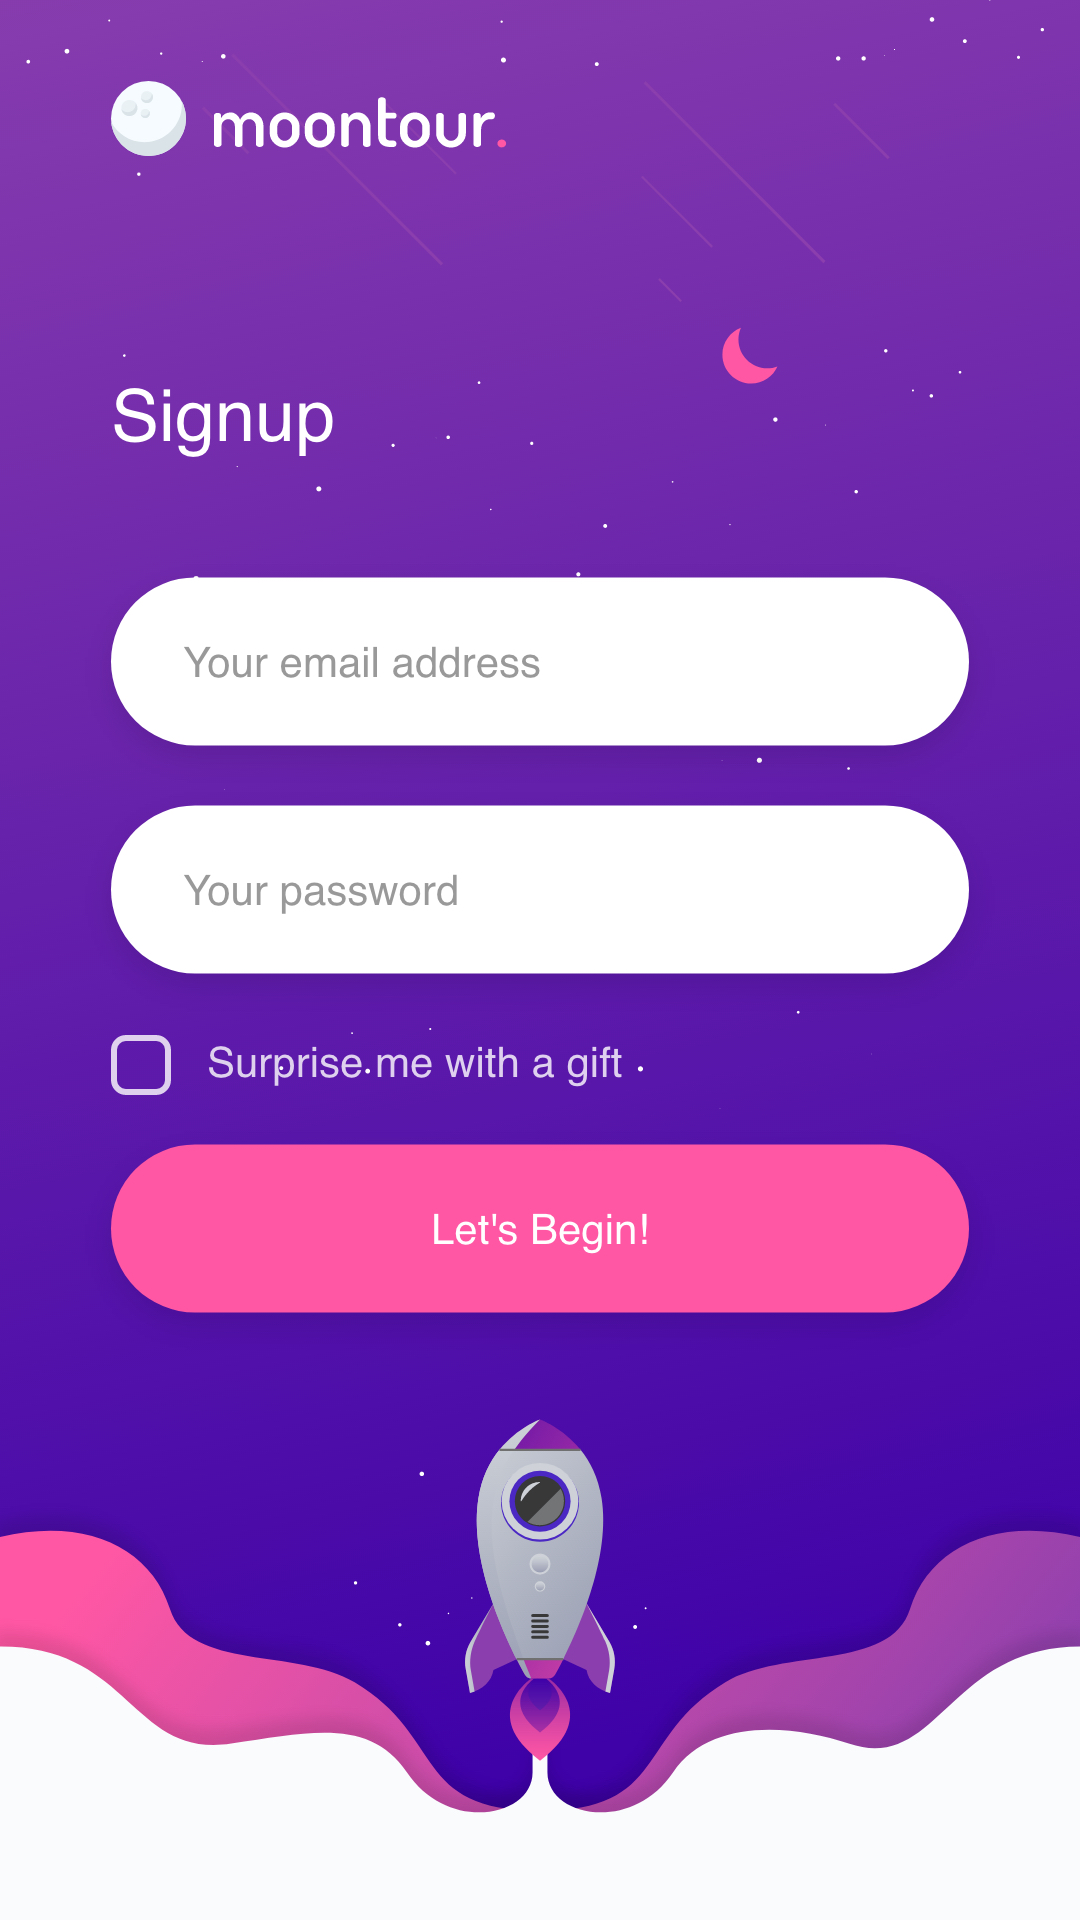BackgroundImage: (1, 1, 1080, 1920)
CheckedTextView: (111, 1034, 624, 1096)
EditText: (111, 804, 971, 975), (111, 578, 971, 746)
Text: (208, 1044, 624, 1088), (113, 386, 335, 459), (214, 98, 497, 150), (185, 646, 541, 679), (185, 876, 459, 915)
TextButton: (111, 1145, 971, 1313)
